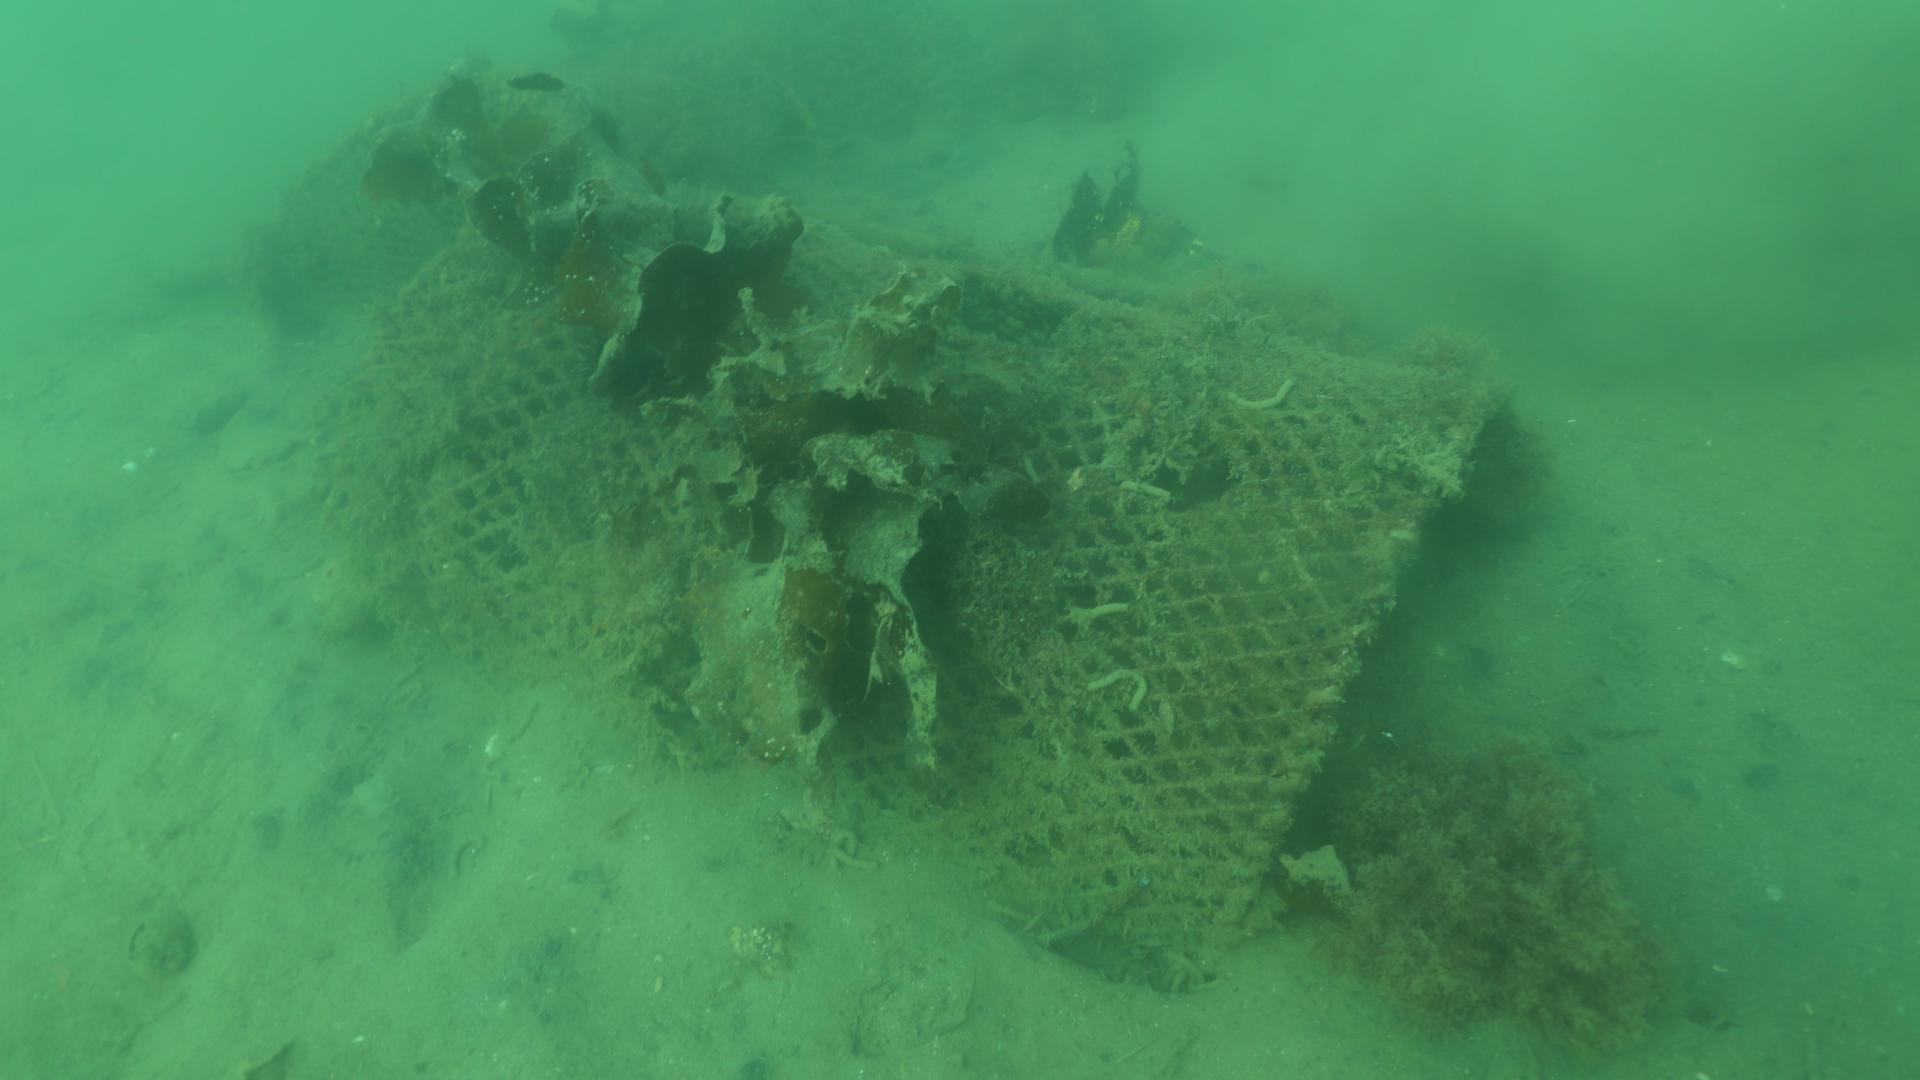spring fish trap: (305, 187, 1520, 997)
